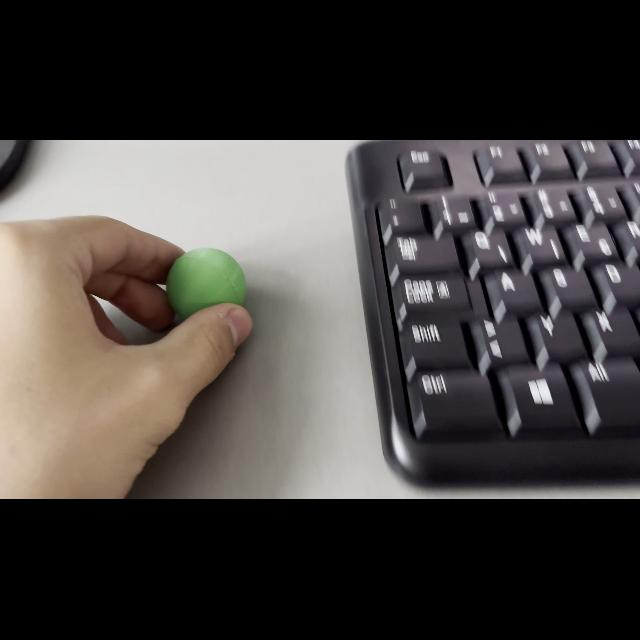objects: (164, 247, 250, 320)
